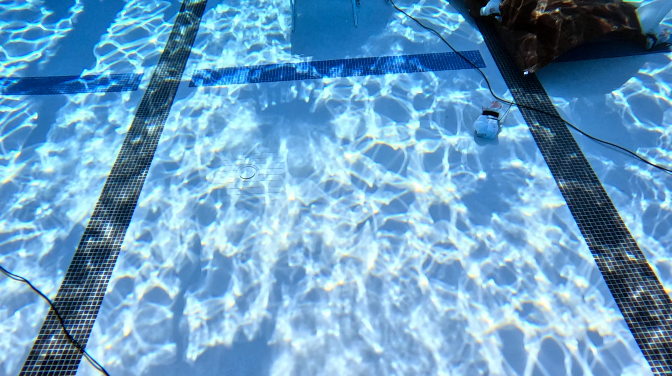sandbag: (484, 0, 664, 69)
